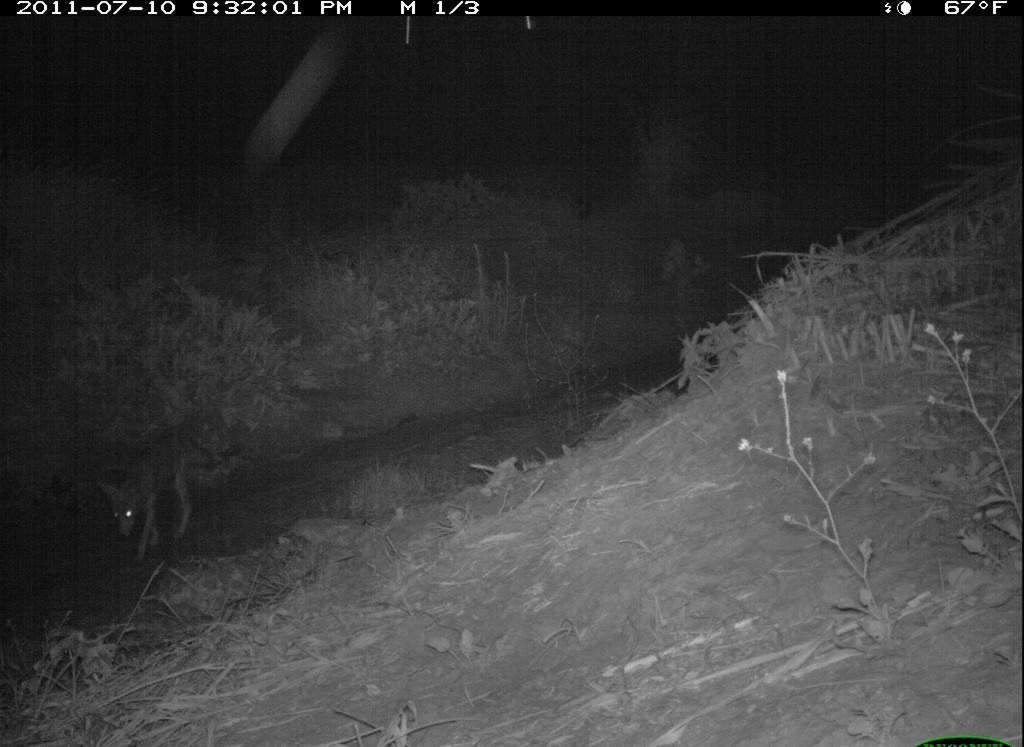coyote: (91, 415, 246, 561)
